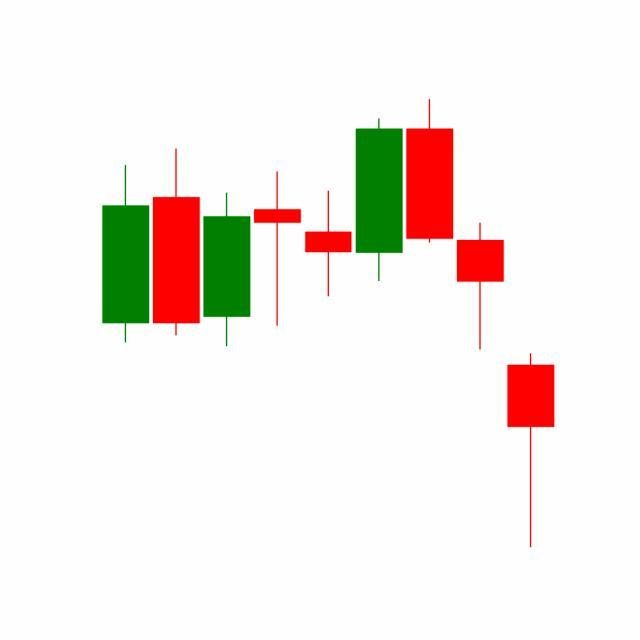Hikkake Pattern: (302, 99, 555, 549)
